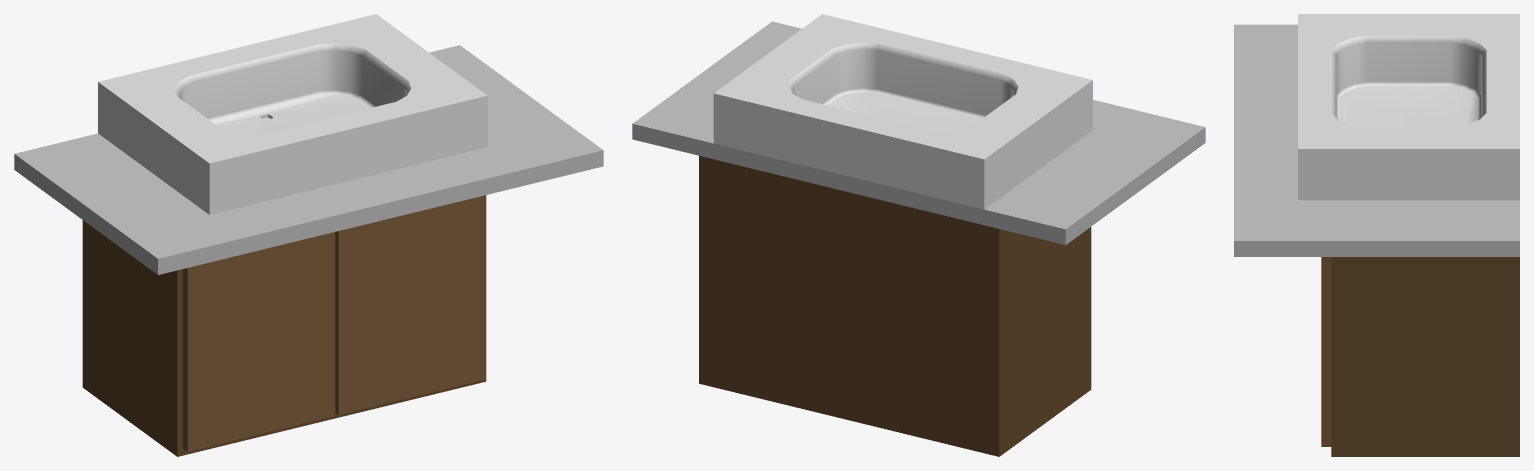
File: SinkGeo.fbx
3 views of the same model, side by side, from view 1: azimuth 30°, elevation 25°; view 2: azimuth 150°, elevation 25°; view 3: azimuth 270°, elevation 25° (orthographic). The views are drawn at different scales.
Parts seen in each view (by area): view 1: SinkGeo; view 2: SinkGeo; view 3: SinkGeo.
Part boxes in pixels (bbox=[...]): SinkGeo: bbox=[14, 14, 603, 456]; SinkGeo: bbox=[632, 14, 1205, 456]; SinkGeo: bbox=[1234, 14, 1519, 456].
Bounding box in the file's own units: 249 × 161 × 139.
